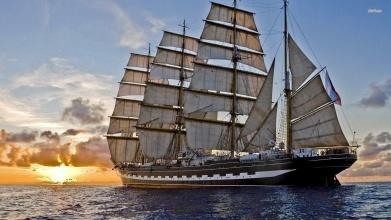fanchuan: (103, 1, 359, 188)
